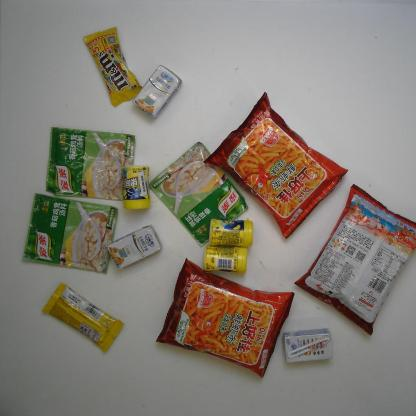Chocolate: (41, 282, 123, 354), (84, 27, 140, 108)
Gum: (200, 245, 249, 276), (208, 218, 254, 249), (121, 165, 152, 210)
Milk: (133, 64, 183, 119), (108, 228, 164, 268), (281, 328, 334, 364)
Puffed Food: (203, 91, 349, 238), (294, 184, 415, 335), (154, 258, 296, 378)
Seasoner: (148, 142, 247, 247), (21, 190, 118, 273), (46, 126, 134, 203)
